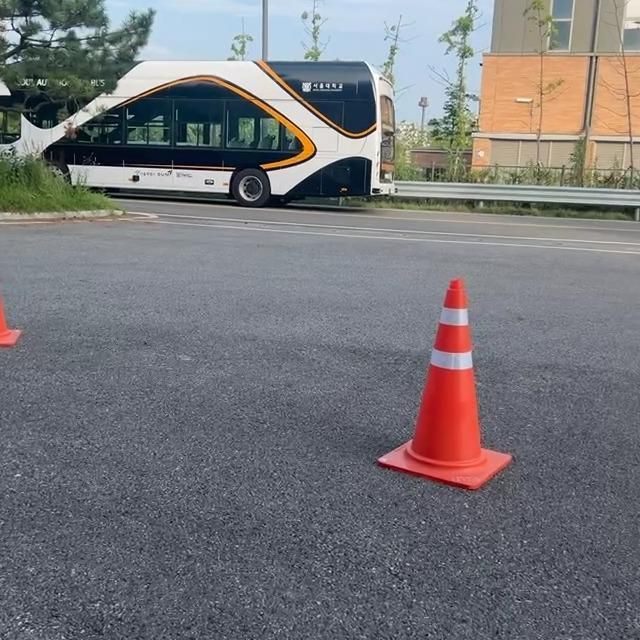fallen_object: (401, 275, 530, 499)
